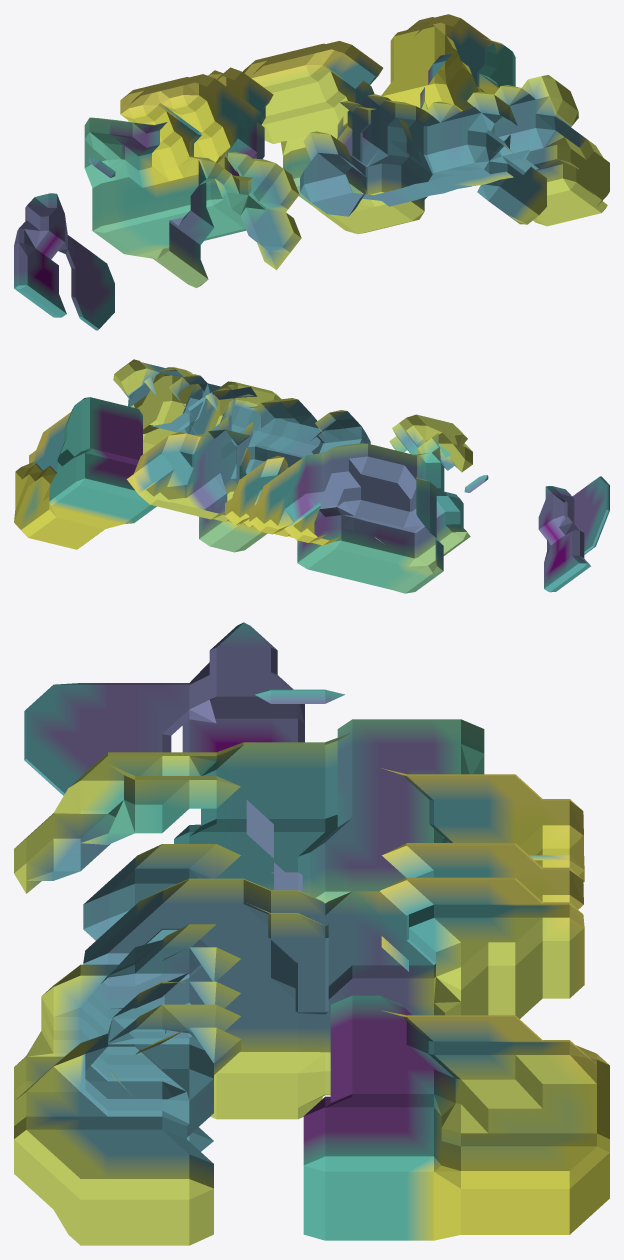
The picture shows the model from 3 angles, top to bottom: view 1: azimuth 30°, elevation 25°; view 2: azimuth 150°, elevation 25°; view 3: azimuth 270°, elevation 25°; orthographic projection. The views are drawn at different scales.
Visible parts, largest first — view 1: world; view 2: world; view 3: world.
Part boxes in pixels (x1,y1,x2,y2): world: [14, 14, 609, 330]; world: [14, 359, 609, 593]; world: [14, 622, 609, 1245].
Size of the model in its own units: 38.95 by 7.98 by 21.93.
